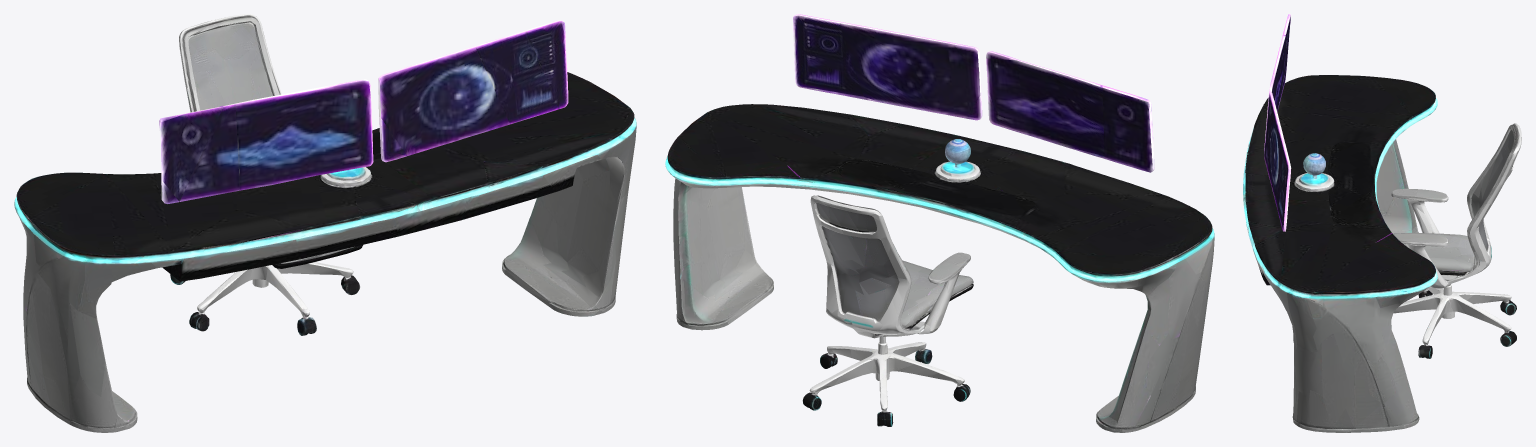
The picture shows the model from 3 angles, left to right: view 1: azimuth 30°, elevation 25°; view 2: azimuth 150°, elevation 25°; view 3: azimuth 270°, elevation 25°; orthographic projection. The views are drawn at different scales.
Visible parts, largest first — view 1: Mesh_0; view 2: Mesh_0; view 3: Mesh_0.
Part boxes in pixels (bbox=[...]): Mesh_0: bbox=[14, 14, 636, 432]; Mesh_0: bbox=[665, 14, 1214, 432]; Mesh_0: bbox=[1243, 14, 1521, 432].
Bounding box in the file's own units: 1.9 × 0.9546 × 1.01.
Materials: 1 (1 with a texture image).
